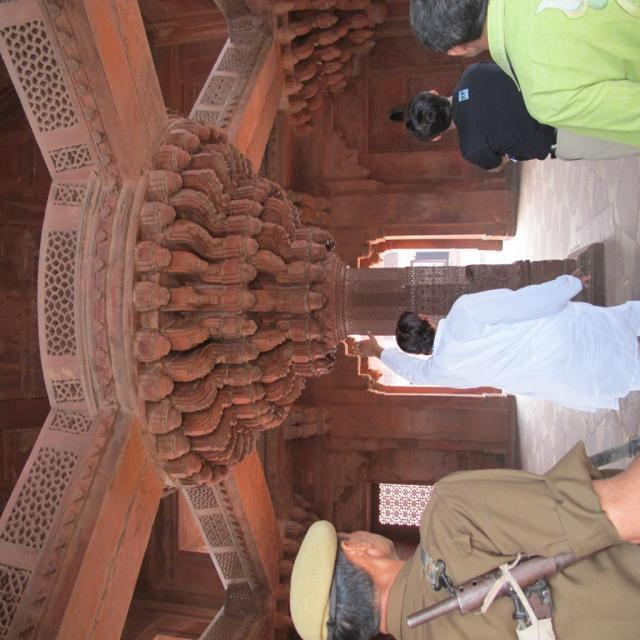weapon: (406, 546, 616, 640)
